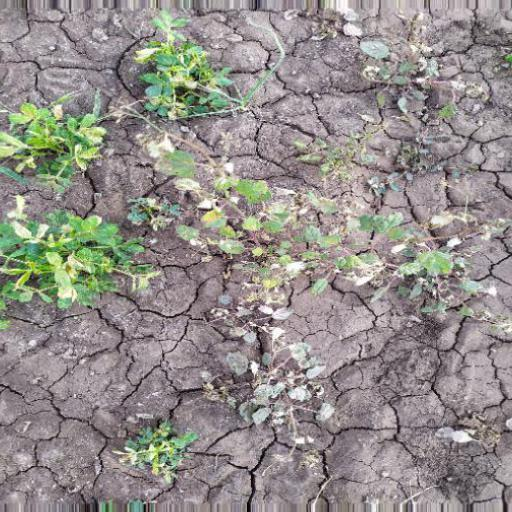weed: (10, 39, 497, 505)
